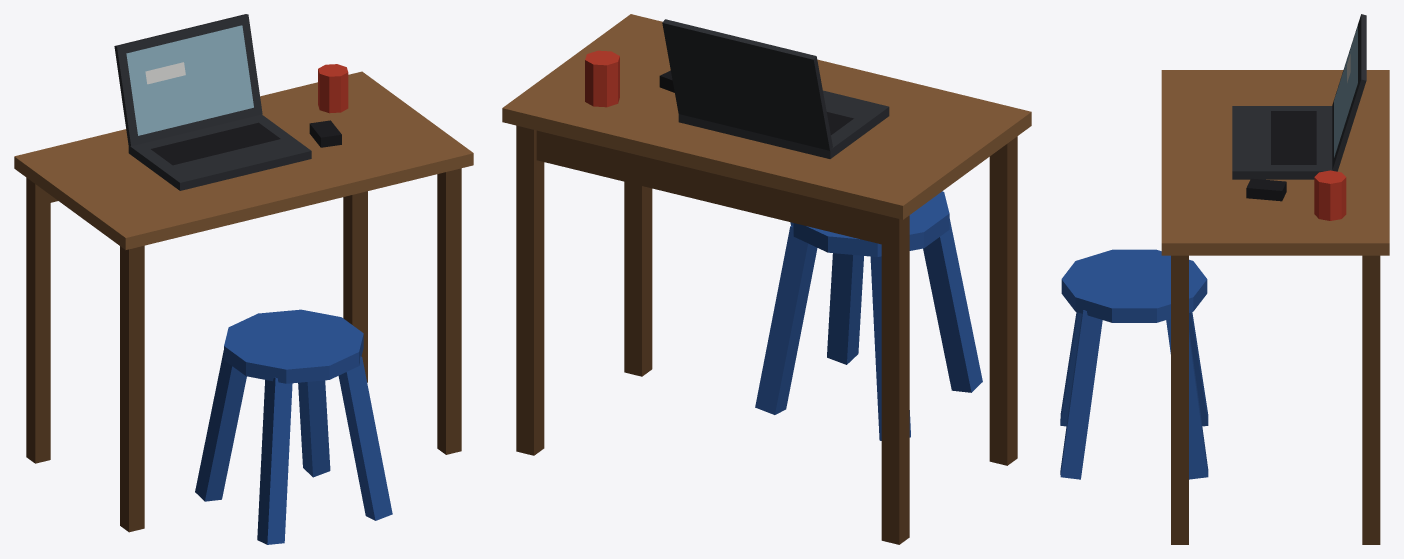
File: prop_laptop-desk.330be954b315.glb
The picture shows the model from 3 angles, left to right: view 1: azimuth 30°, elevation 25°; view 2: azimuth 150°, elevation 25°; view 3: azimuth 270°, elevation 25°; orthographic projection. The views are drawn at different scales.
Parts seen in each view (by area): view 1: body; view 2: body; view 3: body.
Boxes of the visible parts, x1,y1,x2,y2 form: body: [14, 14, 473, 544]; body: [502, 14, 1031, 544]; body: [1060, 14, 1389, 544].
Bounding box in the file's own units: 0.9 × 0.9827 × 0.7225.
